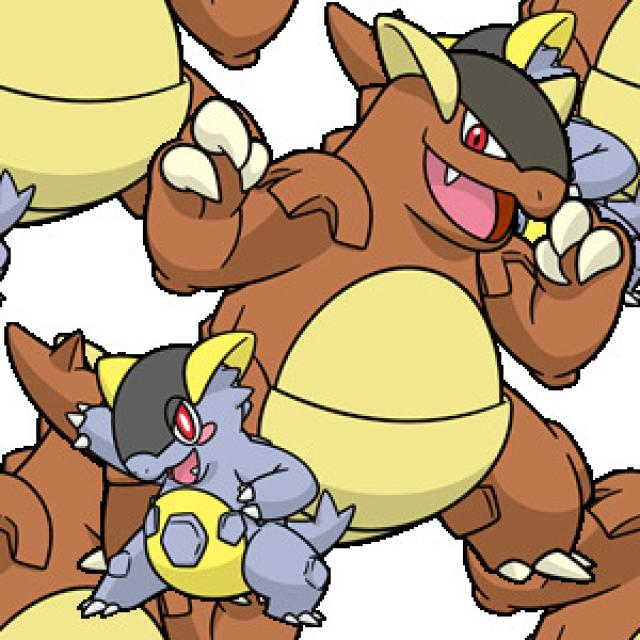Kangaskhan: (95, 33, 590, 623)
